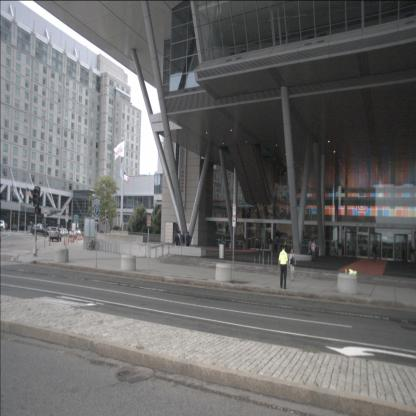human-pedestrian-adult: (288, 248, 296, 282), (372, 240, 378, 262), (174, 231, 180, 252), (311, 240, 316, 262), (308, 239, 312, 259), (186, 232, 190, 250), (179, 231, 182, 252), (182, 231, 185, 252)
vehicle-car: (31, 225, 49, 237), (49, 227, 62, 242), (69, 230, 77, 239), (0, 220, 6, 232), (12, 224, 18, 231), (58, 228, 63, 236), (76, 229, 81, 236), (64, 228, 68, 236), (62, 229, 66, 236), (4, 223, 8, 230)
